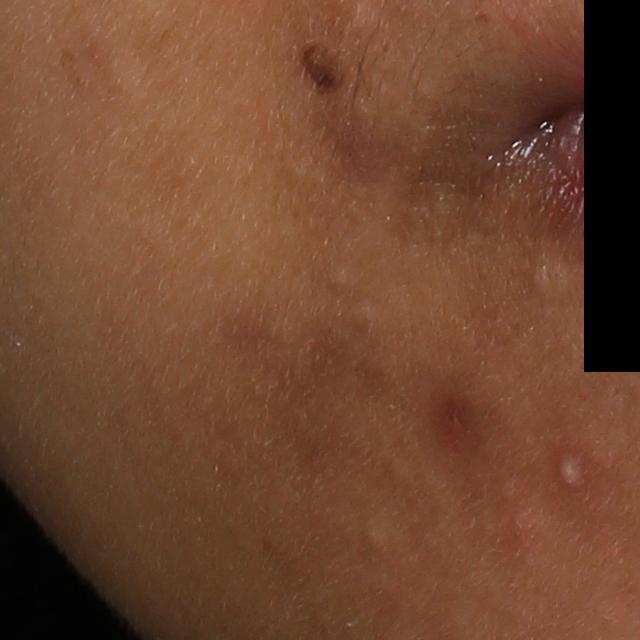comedo: (359, 522, 387, 553), (324, 263, 351, 294)
hypertrophic_scar: (521, 249, 577, 307)
nevus: (286, 40, 347, 101)
pustule: (553, 439, 594, 496)
